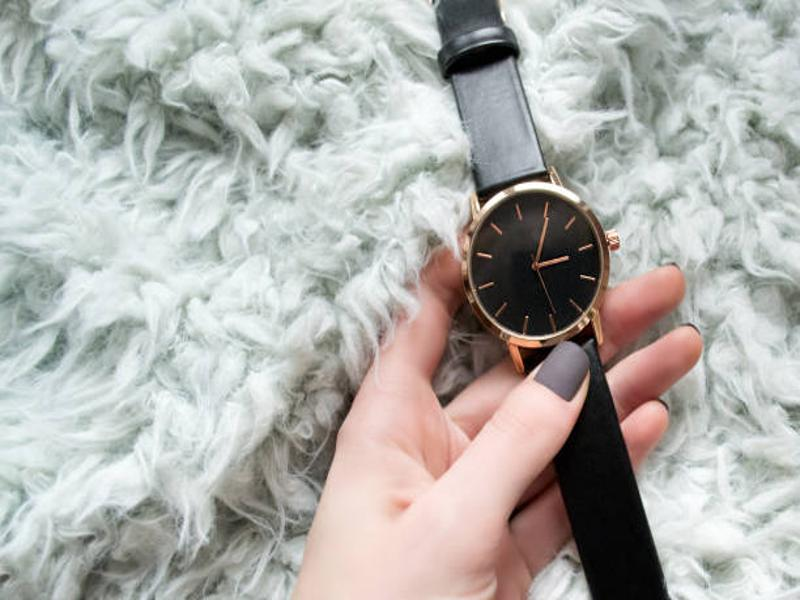watch: (432, 1, 668, 593)
